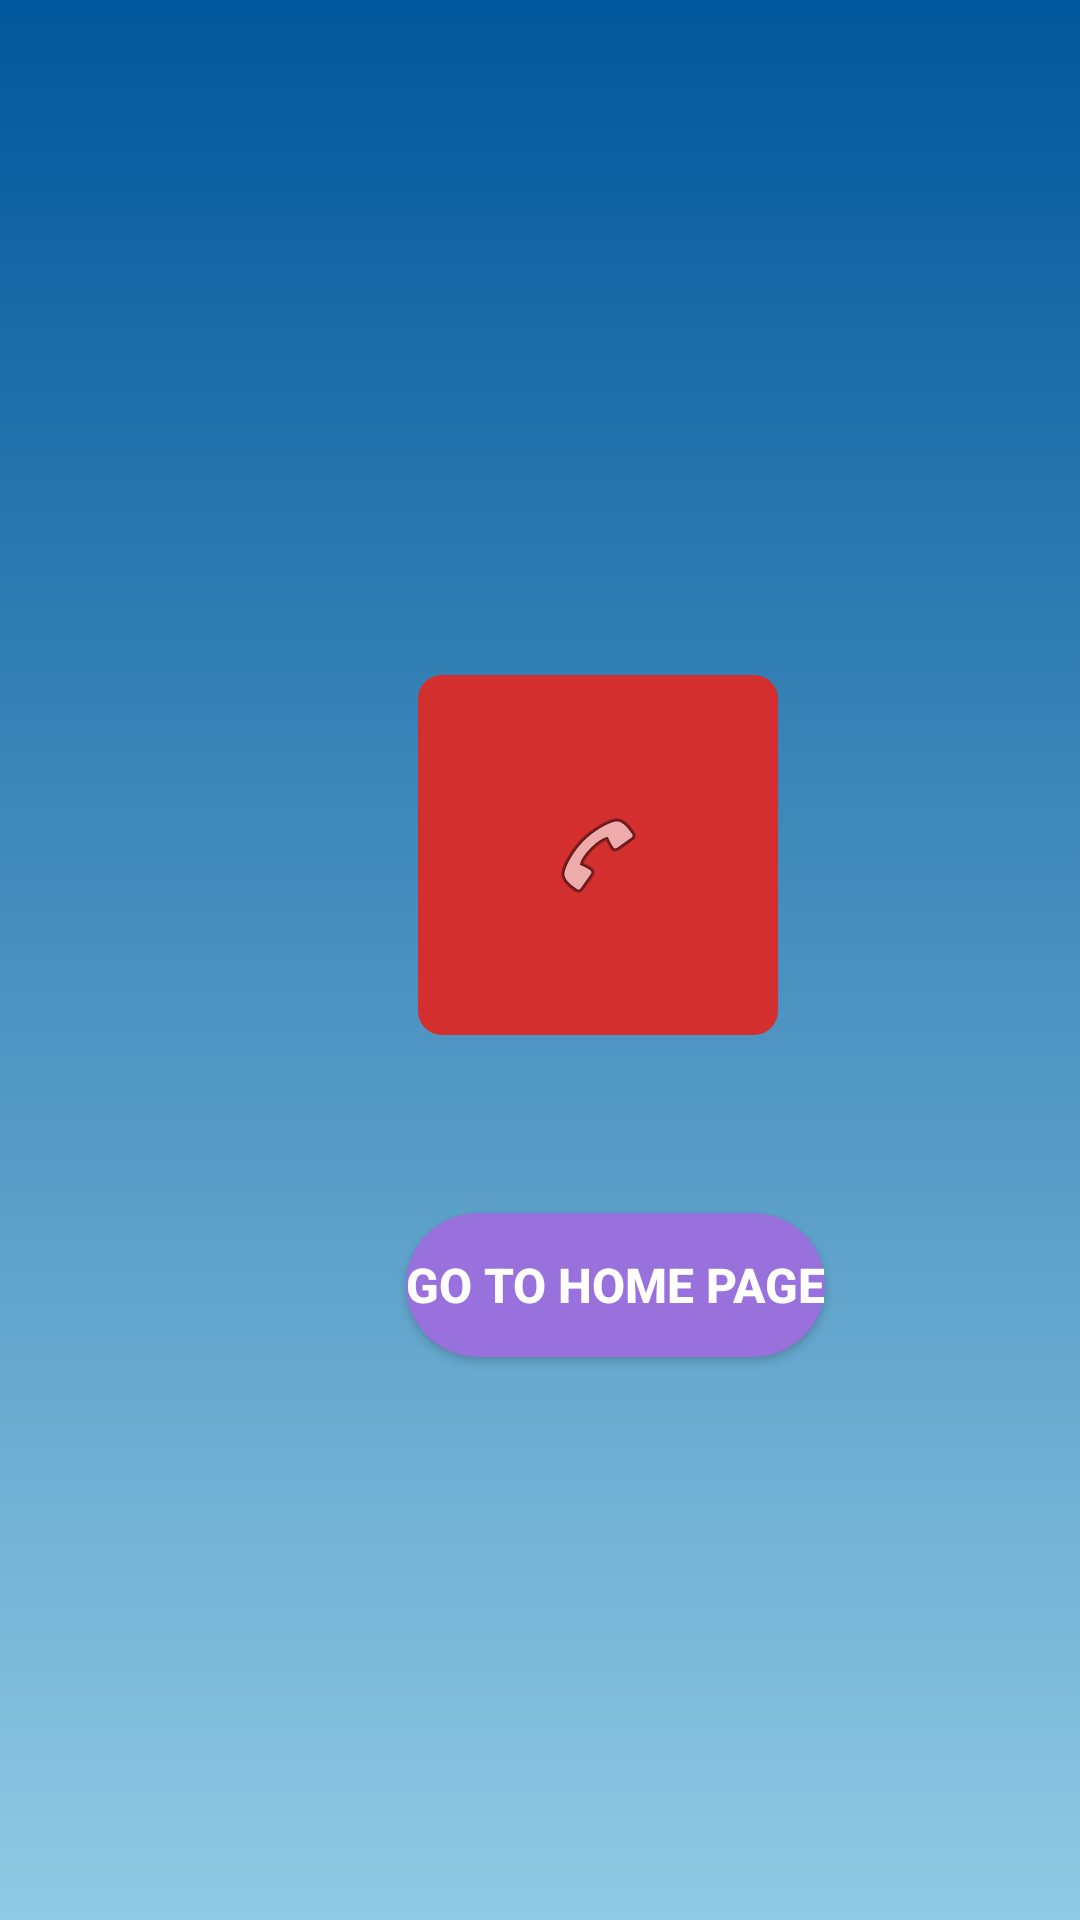

Icon bounding boxes for this 1080w x 1920h phone screenshot, format (x1, y1, x2, y2):
call: (418, 675, 778, 1035)
